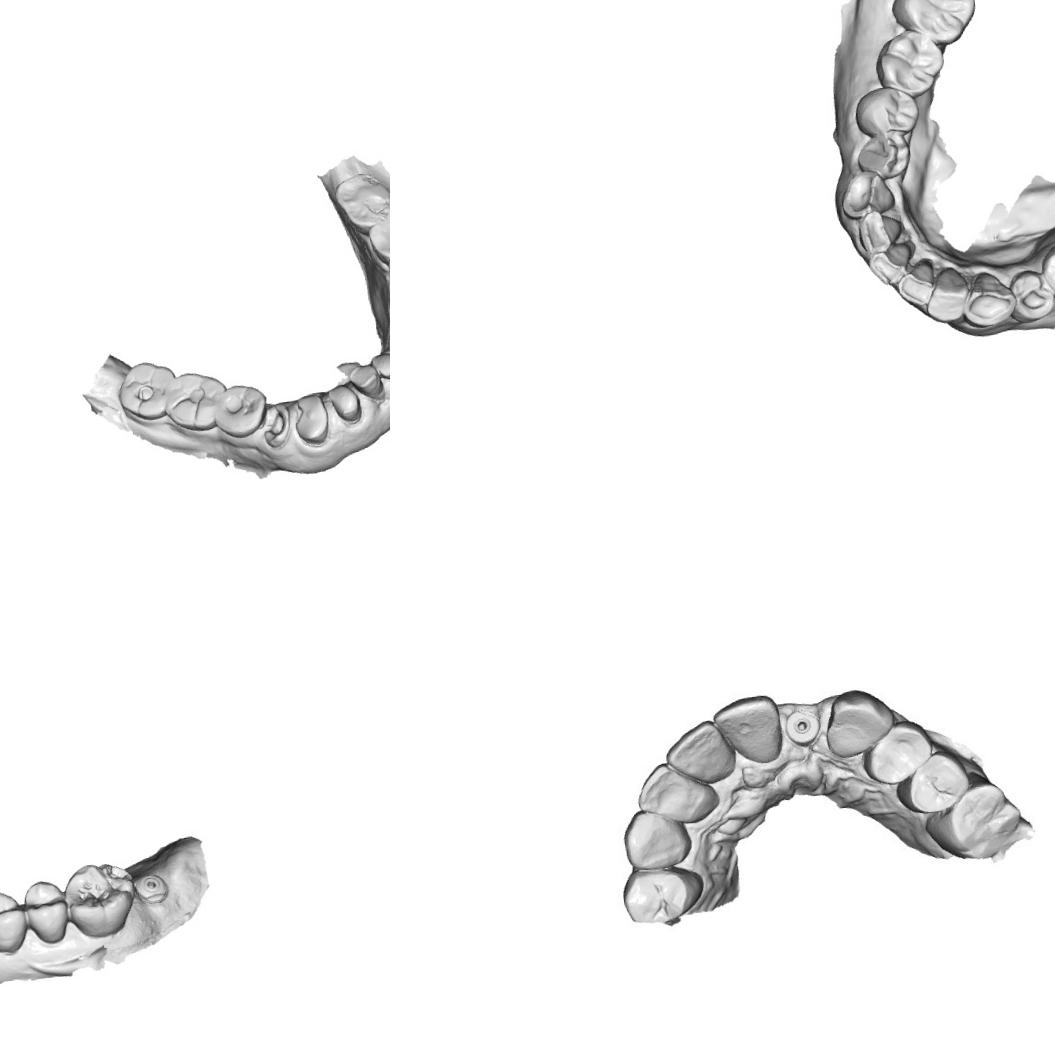canine: (822, 682, 900, 762), (618, 803, 700, 874), (958, 265, 1018, 334), (834, 168, 896, 222)
implant: (131, 869, 172, 909), (782, 708, 822, 749)
incisor: (636, 761, 719, 823), (714, 693, 782, 765), (660, 720, 734, 785), (920, 266, 974, 326), (891, 257, 941, 312), (854, 206, 906, 257), (865, 240, 912, 288)
molar: (919, 775, 1028, 866), (59, 858, 140, 942), (871, 24, 948, 101), (883, 0, 980, 51), (331, 167, 390, 233), (116, 359, 177, 420), (166, 372, 226, 428), (367, 211, 390, 263)
premolar: (890, 746, 974, 822), (858, 718, 936, 787), (20, 876, 75, 948), (624, 864, 692, 921), (853, 83, 920, 139), (852, 127, 912, 184), (212, 380, 270, 438), (1007, 267, 1055, 324), (0, 887, 32, 958), (1039, 236, 1055, 306)
